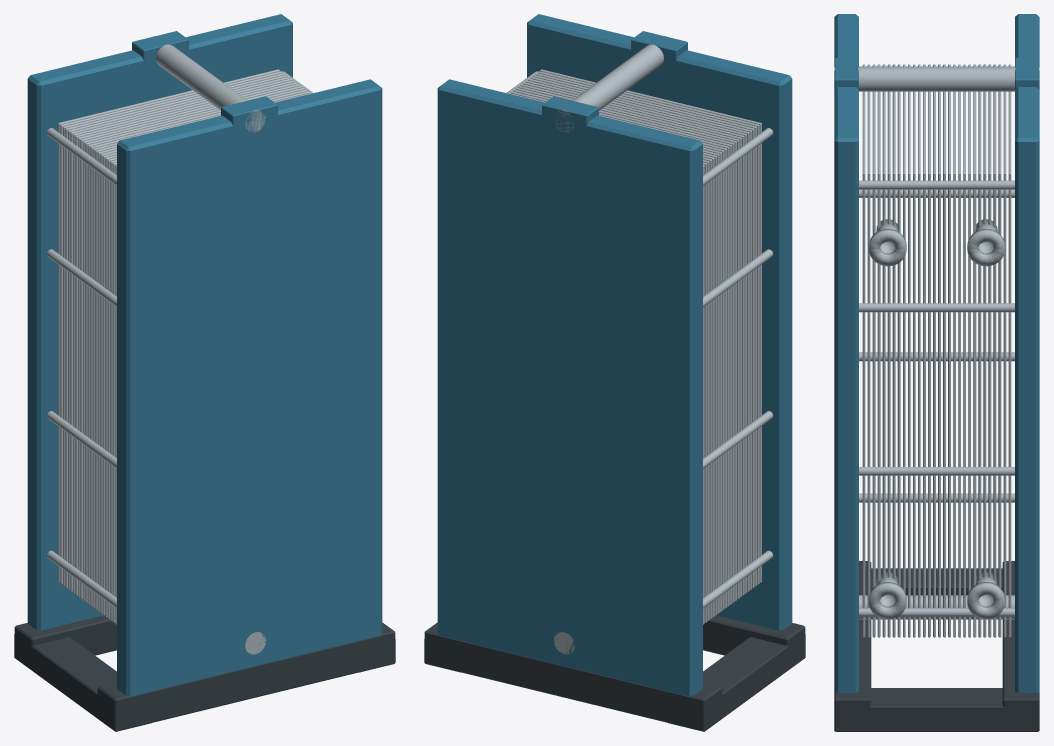
The model's file is SM_Plant_PlateHx.glb.
The picture shows the model from 3 angles, left to right: view 1: azimuth 30°, elevation 25°; view 2: azimuth 150°, elevation 25°; view 3: azimuth 270°, elevation 25°; orthographic projection.
Visible parts, largest first — view 1: SM_Plant_PlateHx; view 2: SM_Plant_PlateHx; view 3: SM_Plant_PlateHx.
Boxes of the visible parts, bbox=[...] form: SM_Plant_PlateHx: bbox=[14, 14, 395, 731]; SM_Plant_PlateHx: bbox=[424, 14, 805, 731]; SM_Plant_PlateHx: bbox=[834, 14, 1039, 731].
Size of the model in its own units: 0.8 by 1.6 by 0.5.
